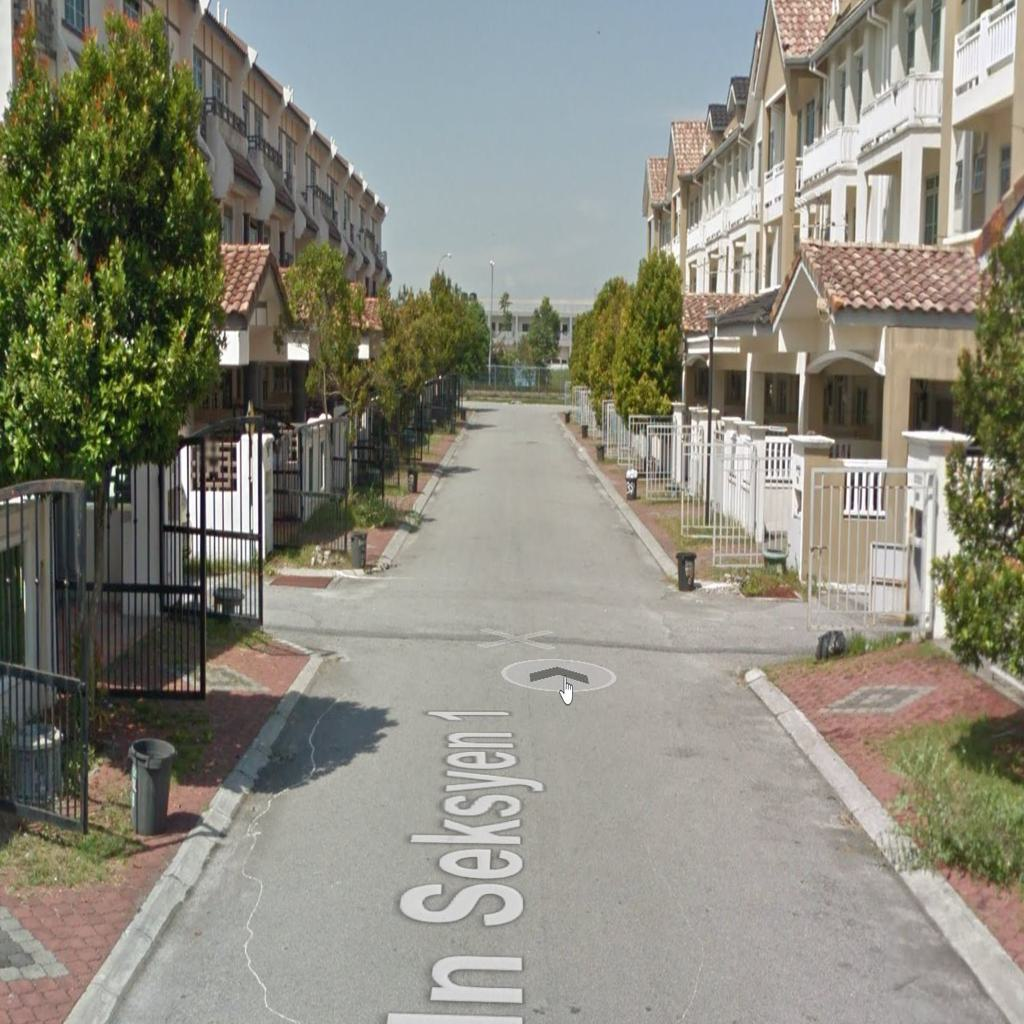Junction: (195, 517, 414, 701), (642, 547, 891, 685)
